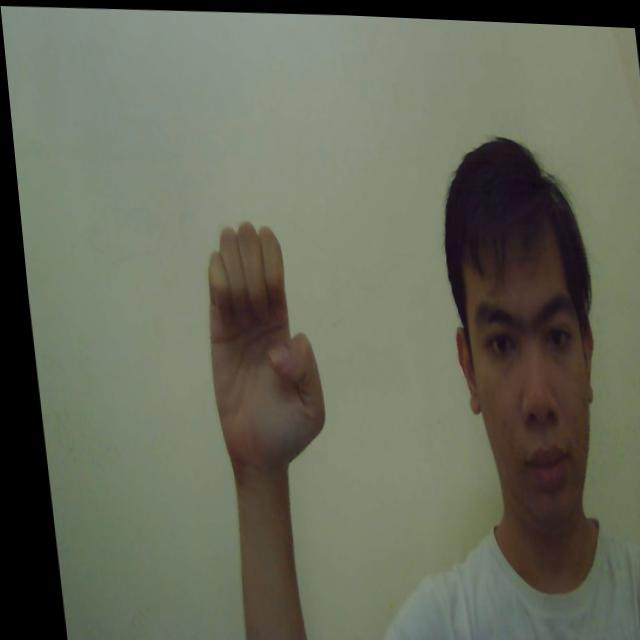E: (191, 214, 324, 467)
